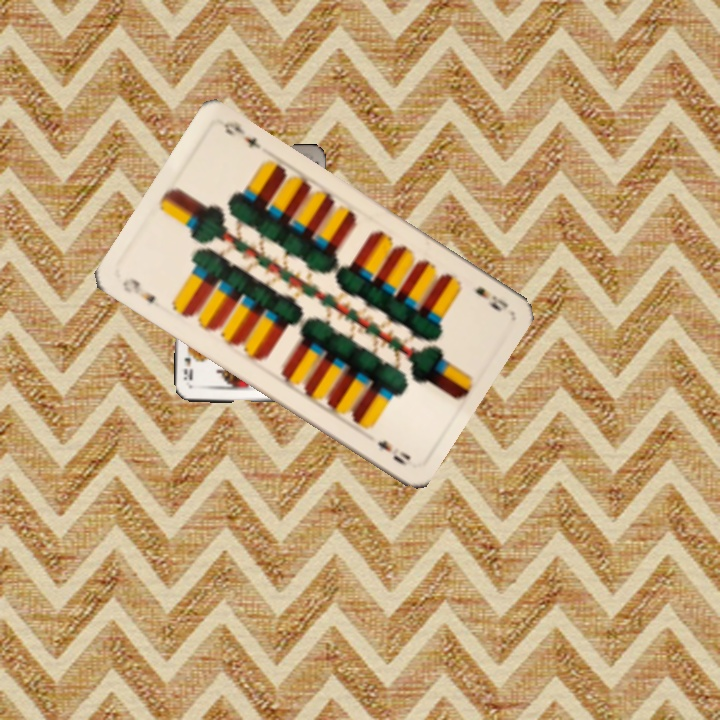E9: (118, 274, 159, 307), (471, 282, 511, 314)
